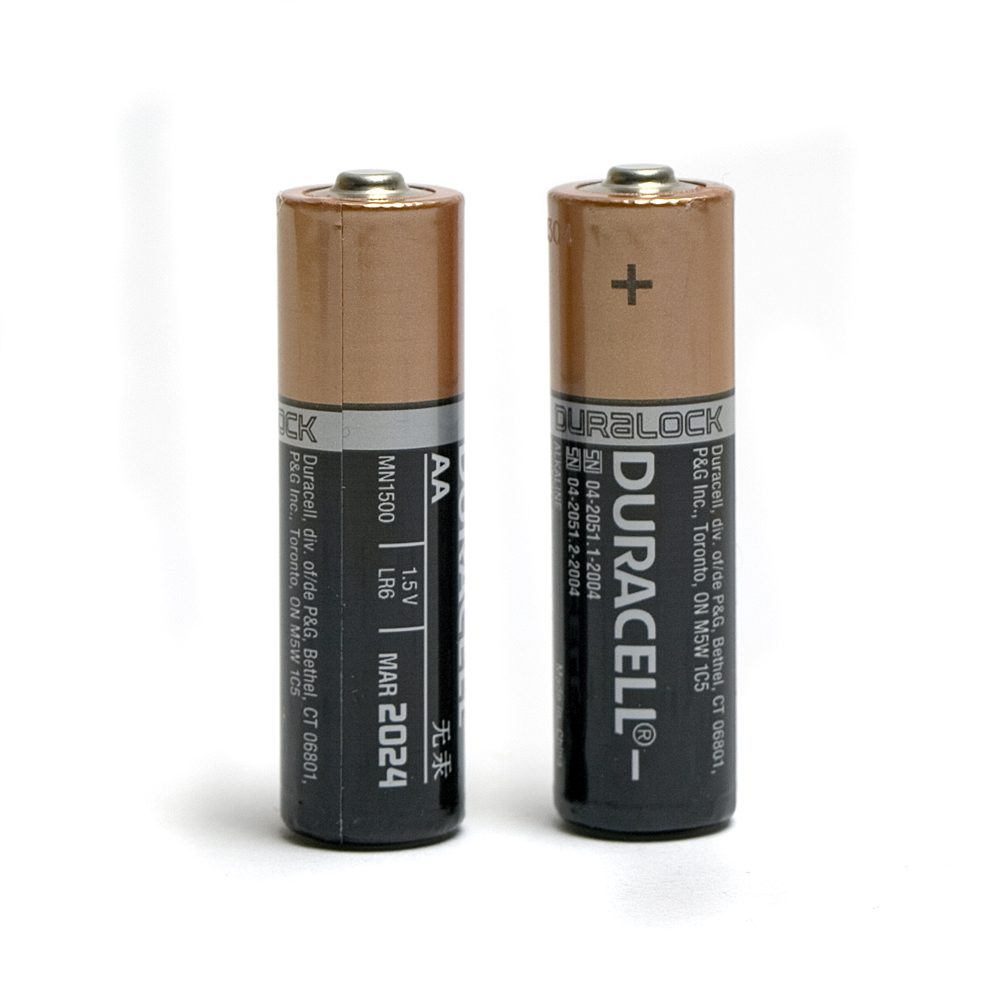Nonrec_Other: (262, 148, 489, 862), (539, 162, 772, 844)
